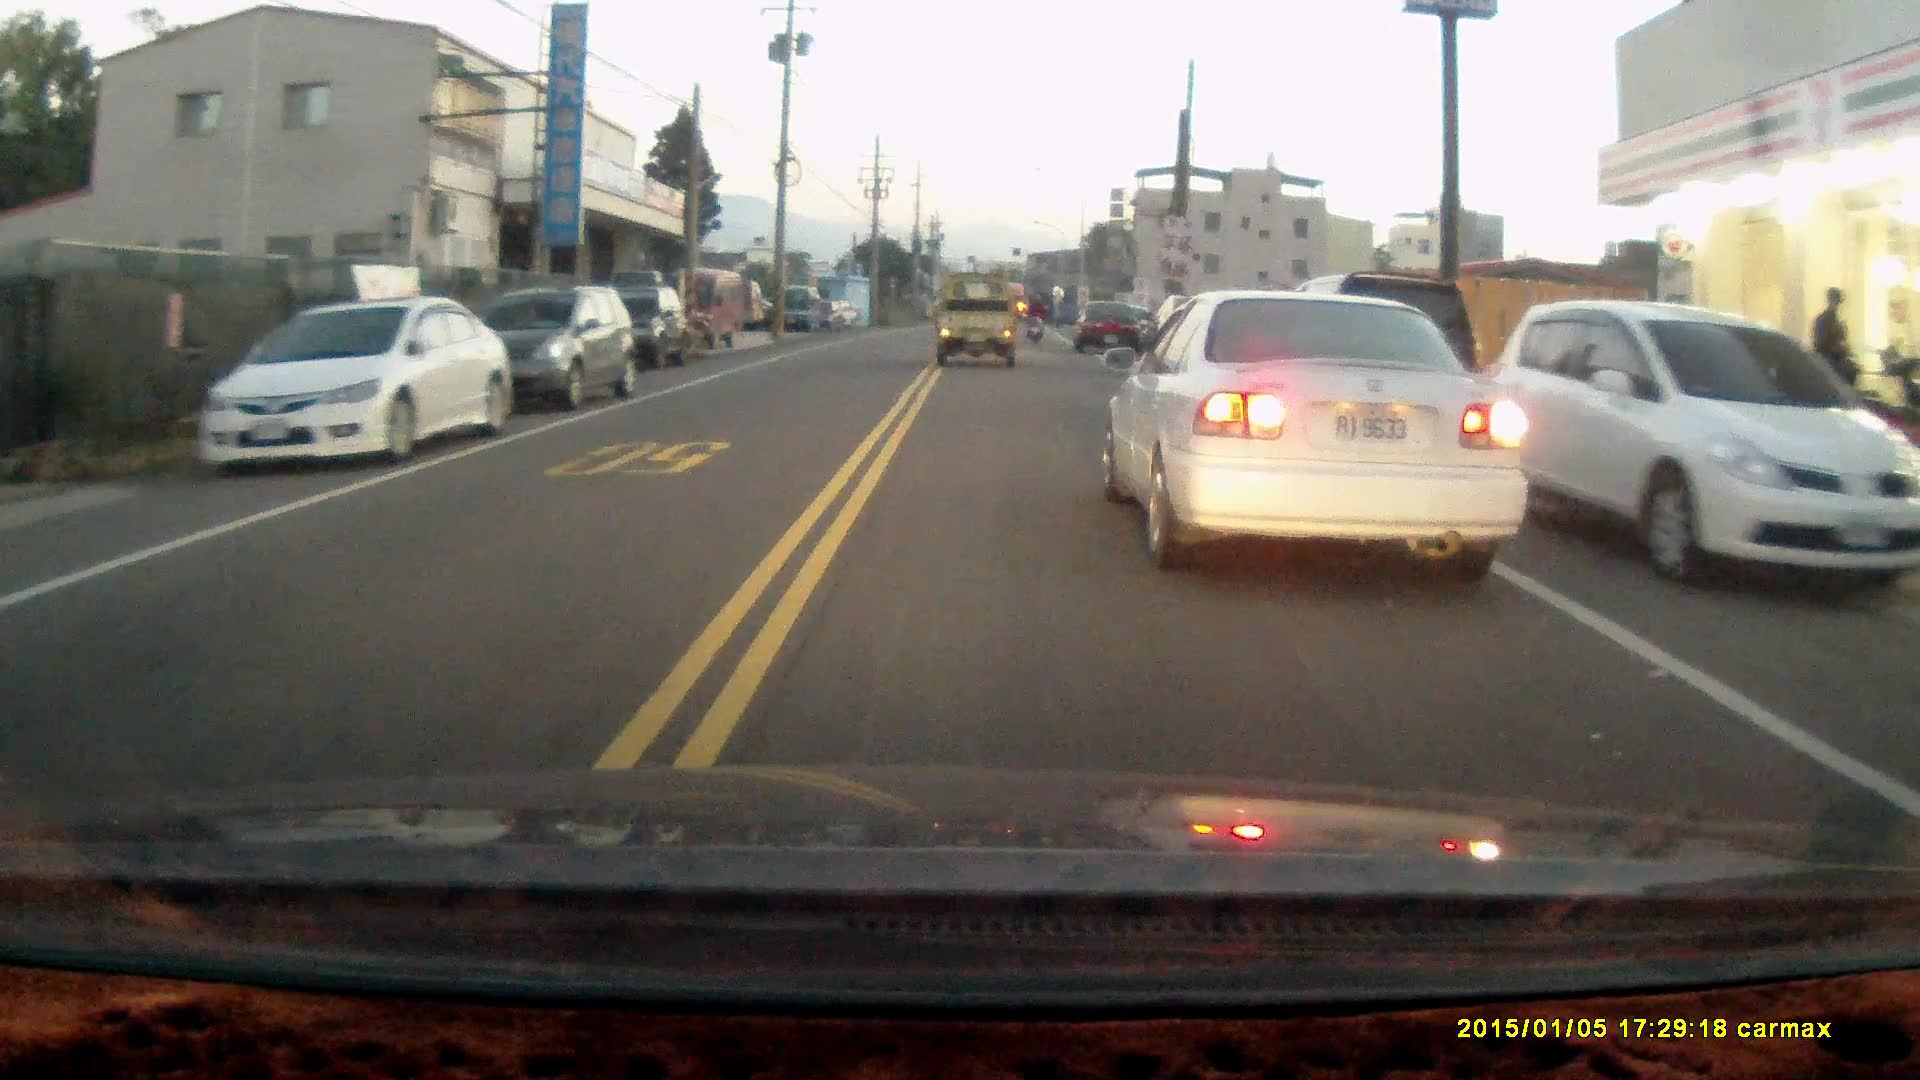pedestrian: (1809, 285, 1851, 395)
rider: (1021, 293, 1048, 341)
vehicle: (1109, 290, 1533, 579), (1487, 299, 1920, 581), (199, 297, 521, 469), (1286, 264, 1493, 489), (441, 283, 634, 410), (935, 271, 1022, 369), (599, 286, 697, 372), (663, 265, 757, 345), (1075, 300, 1151, 358)
